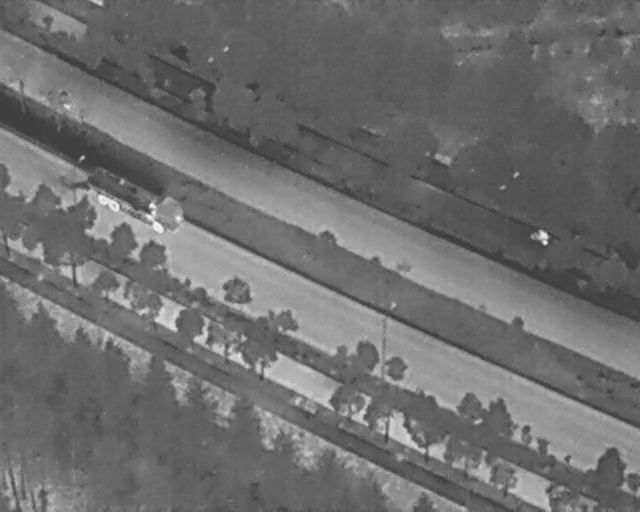OtherVehicle: (76, 160, 193, 239)
